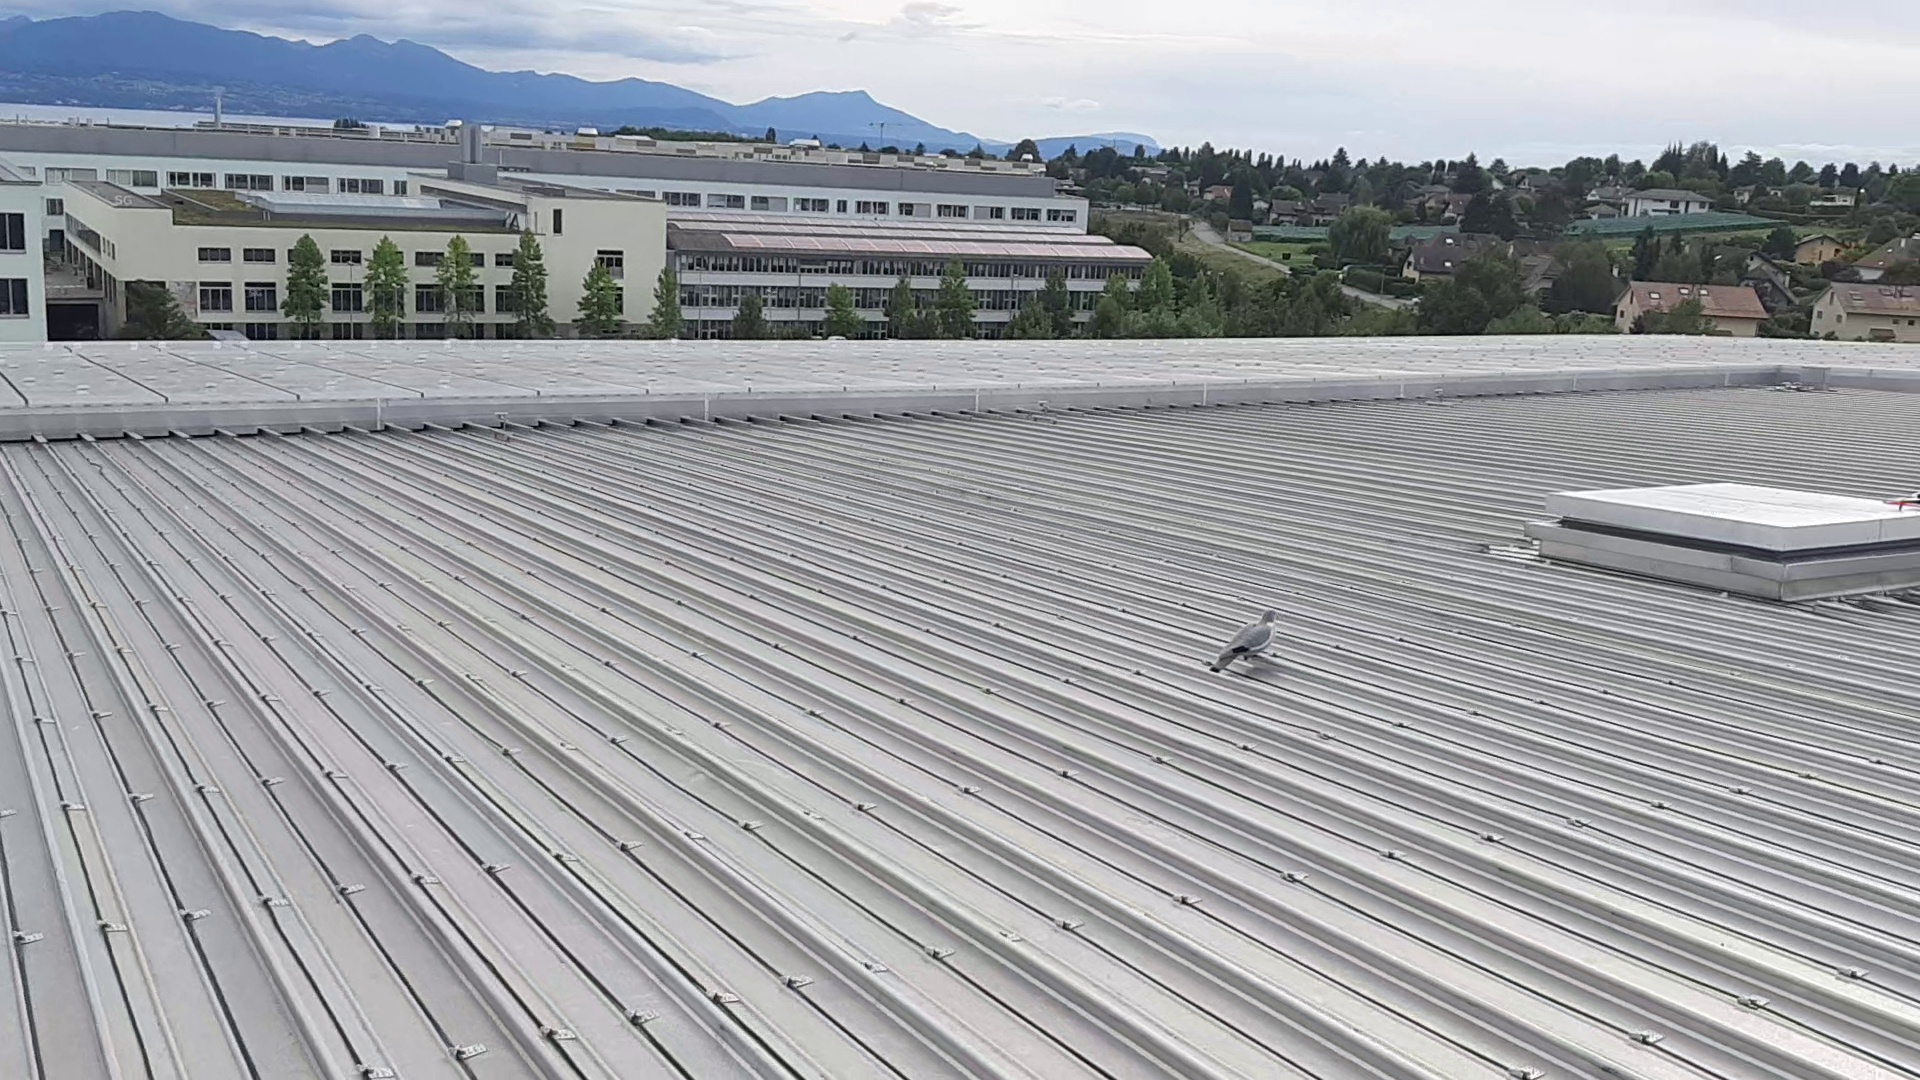Pigeon: (1205, 607, 1283, 678)
